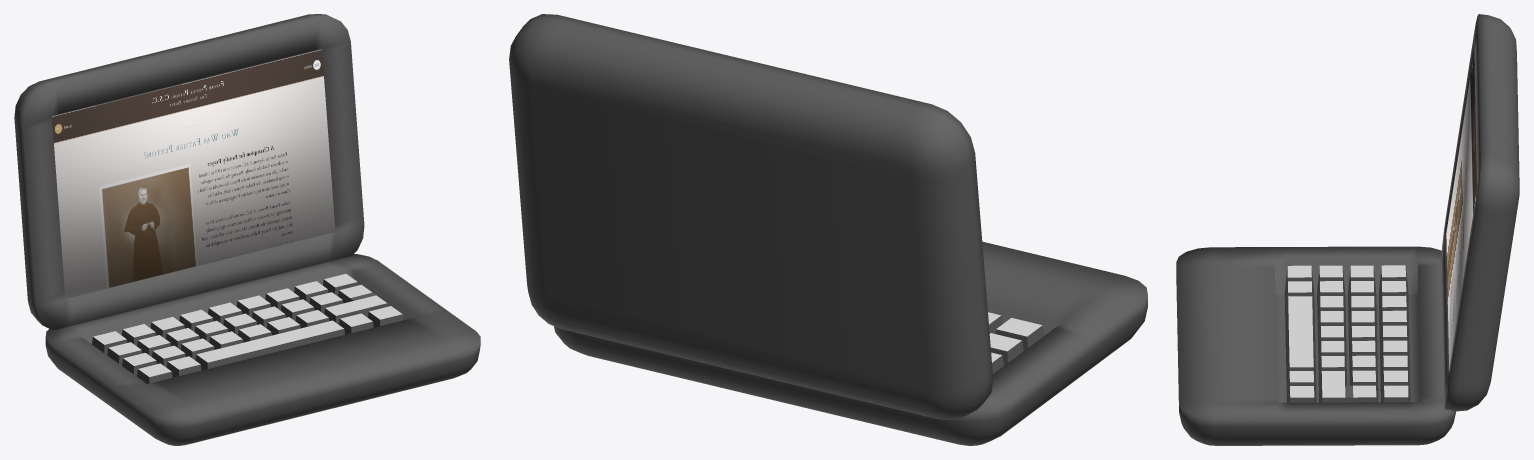
File: fp-laptop.glb
3 views of the same model, side by side, from view 1: azimuth 30°, elevation 25°; view 2: azimuth 150°, elevation 25°; view 3: azimuth 270°, elevation 25° (orthographic). The views are drawn at different scales.
Parts seen in each view (by area): view 1: Plane.002; view 2: Plane.002; view 3: Plane.002.
Part boxes in pixels (bbox=[...]): Plane.002: bbox=[14, 14, 480, 445]; Plane.002: bbox=[509, 14, 1147, 445]; Plane.002: bbox=[1176, 14, 1519, 445].
Bounding box in the file's own units: 6.21 × 4.76 × 5.25.
Materials: 3 (1 with a texture image).
